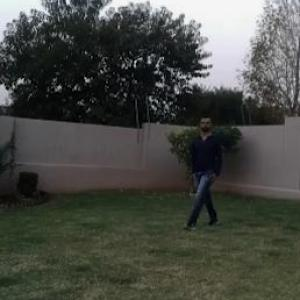follow: (189, 115, 221, 223)
